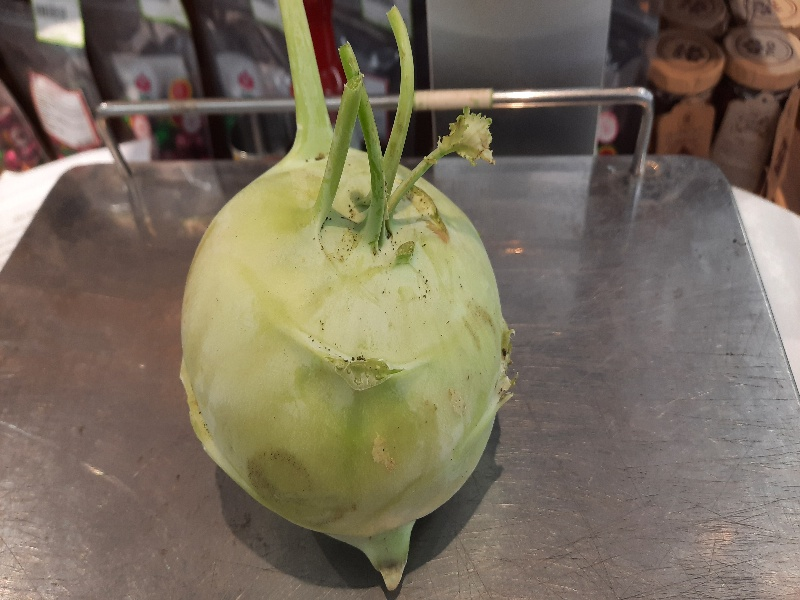vege: (175, 6, 516, 596)
